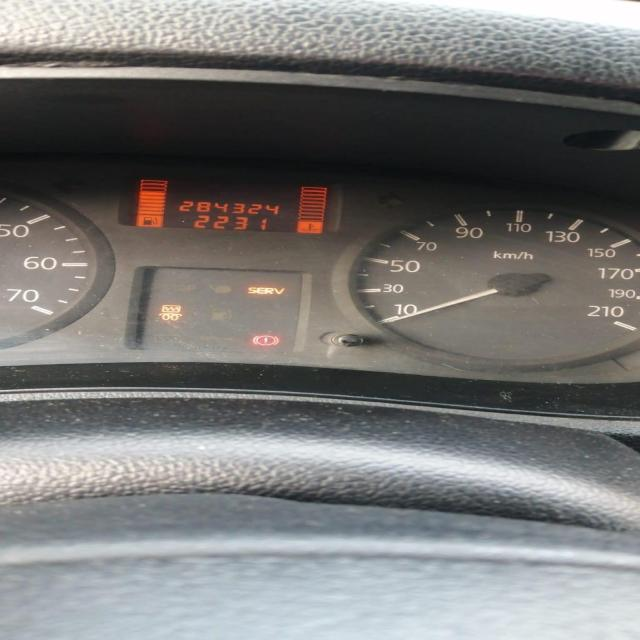odometer: (115, 171, 347, 235)
